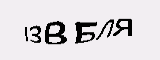І: (23, 26, 29, 43)
Б: (73, 21, 97, 45)
В: (43, 19, 67, 46)
З: (28, 25, 43, 44)
Л: (95, 18, 114, 41)
Я: (110, 18, 134, 38)
